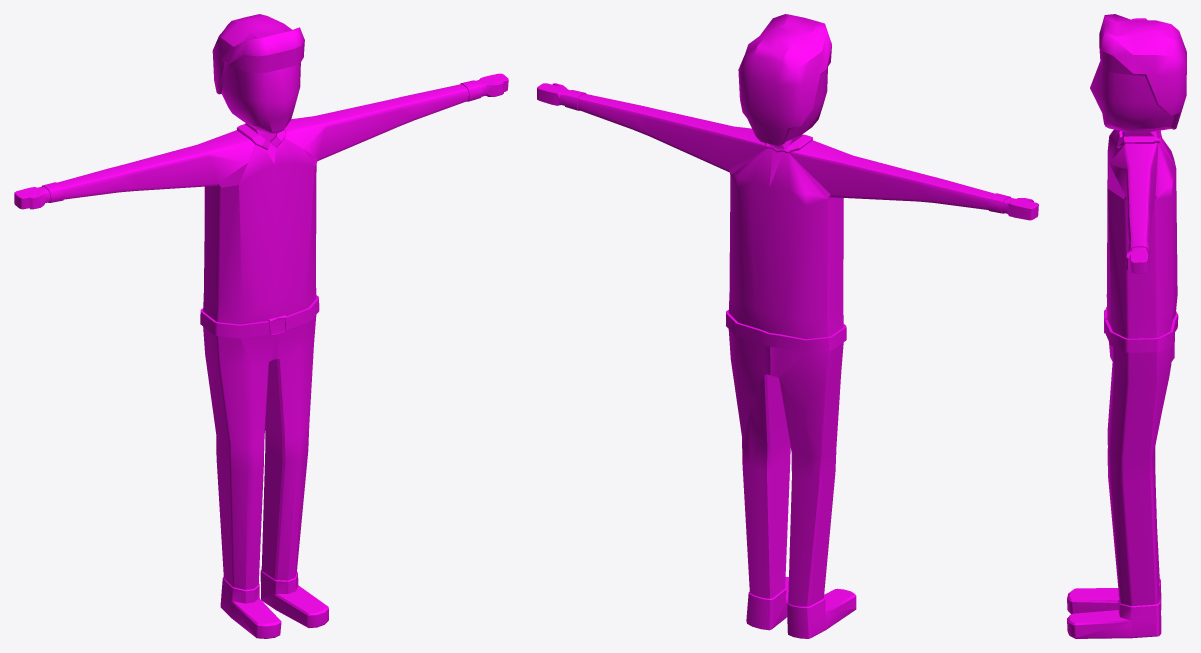
The model's file is npc 1 var 2.fbx.
3 views of the same model, side by side, from view 1: azimuth 30°, elevation 25°; view 2: azimuth 150°, elevation 25°; view 3: azimuth 270°, elevation 25° (orthographic). The views are drawn at different scales.
Visible parts, largest first — view 1: npc_male_var_2; view 2: npc_male_var_2; view 3: npc_male_var_2.
Part boxes in pixels (x1,y1,x2,y2): npc_male_var_2: (14, 14, 508, 638); npc_male_var_2: (537, 14, 1038, 638); npc_male_var_2: (1067, 14, 1186, 638).
Size of the model in its own units: 1.57 by 1.79 by 0.3253.
